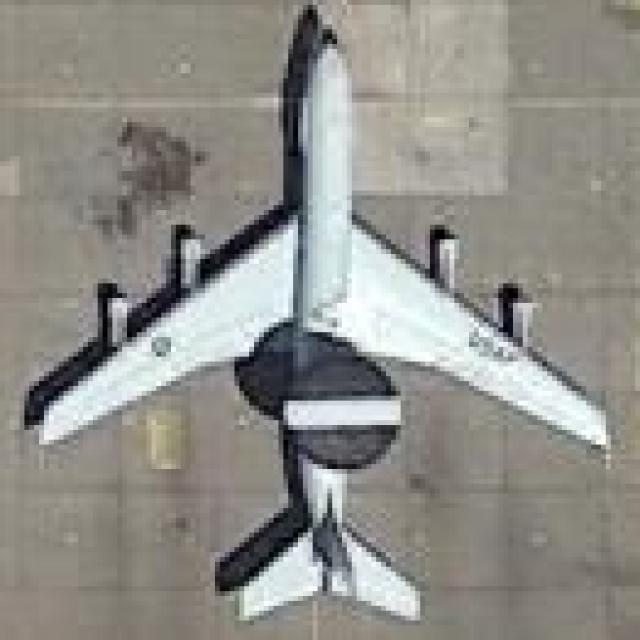E-3_TopDown: (19, 0, 610, 625)
